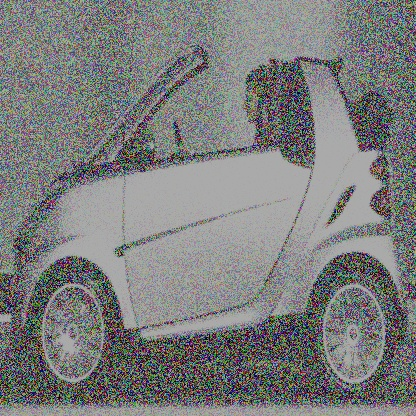Vehicle: (12, 17, 411, 399)
